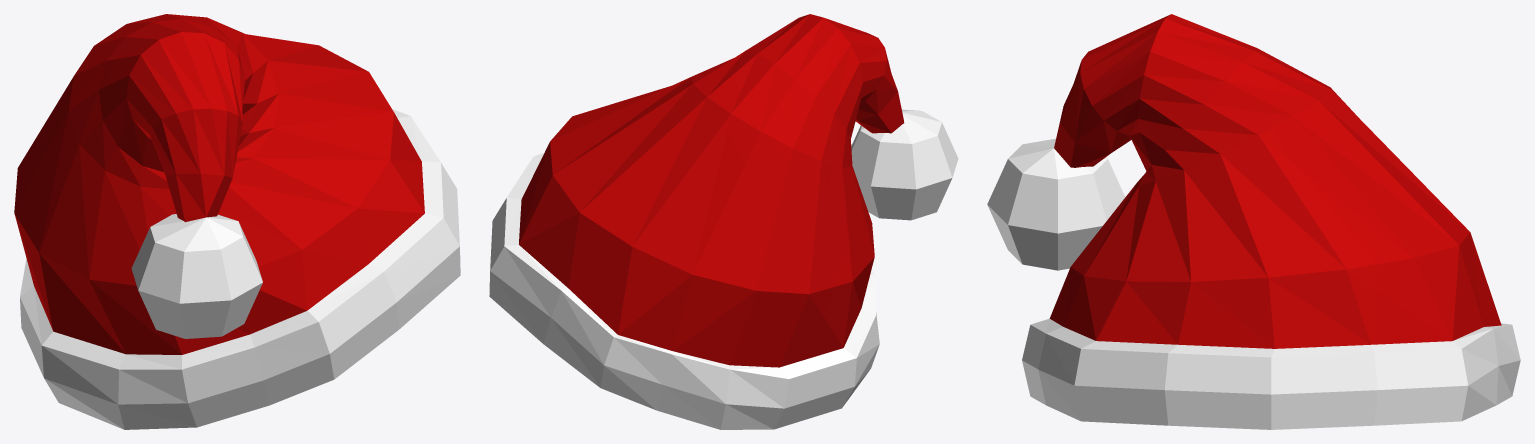
File: SANTA HAT.fbx
The picture shows the model from 3 angles, left to right: view 1: azimuth 30°, elevation 25°; view 2: azimuth 150°, elevation 25°; view 3: azimuth 270°, elevation 25°; orthographic projection. The views are drawn at different scales.
Visible parts, largest first — view 1: SANTA_HAT; view 2: SANTA_HAT; view 3: SANTA_HAT.
Part boxes in pixels (left/top/right/bottom): SANTA_HAT: left=14, top=14, right=460, bottom=429; SANTA_HAT: left=489, top=14, right=958, bottom=429; SANTA_HAT: left=987, top=14, right=1520, bottom=429.
Size of the model in its own units: 28.5 by 27.12 by 32.34.
